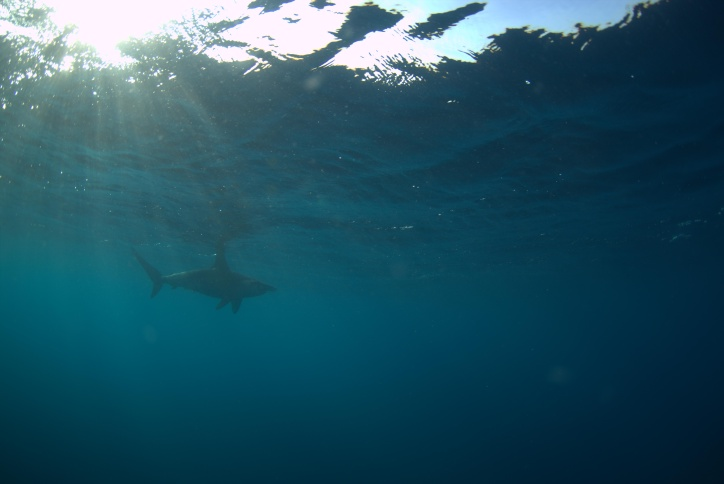Hammer: (114, 233, 298, 331)
